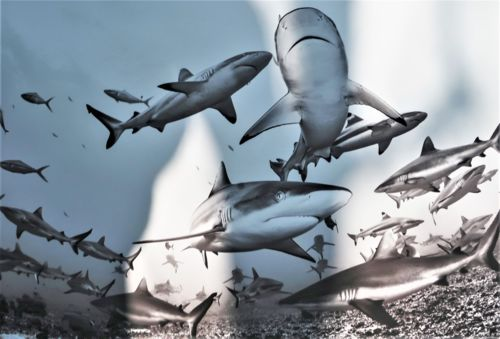shark: (273, 204, 500, 329), (233, 1, 388, 180), (133, 161, 353, 264), (86, 42, 277, 156), (373, 83, 500, 204), (284, 104, 438, 172), (90, 274, 227, 334), (1, 198, 91, 259), (406, 159, 496, 207), (347, 204, 434, 247), (70, 232, 143, 270), (225, 271, 295, 309), (1, 242, 50, 292), (59, 270, 122, 302), (303, 232, 343, 254), (221, 265, 256, 287), (303, 257, 341, 277), (159, 254, 185, 270)
